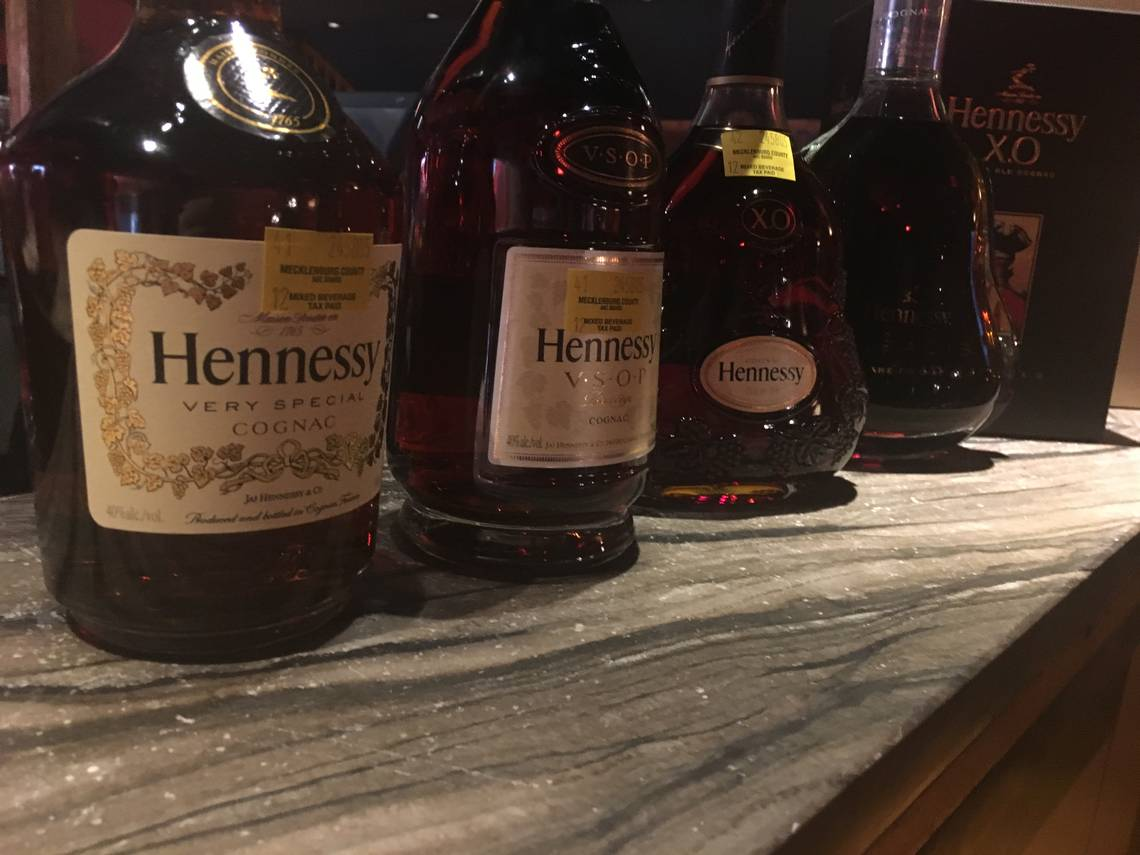Hennessy: (2, 2, 425, 691), (378, 3, 679, 558), (783, 1, 1036, 467), (645, 2, 877, 507)
